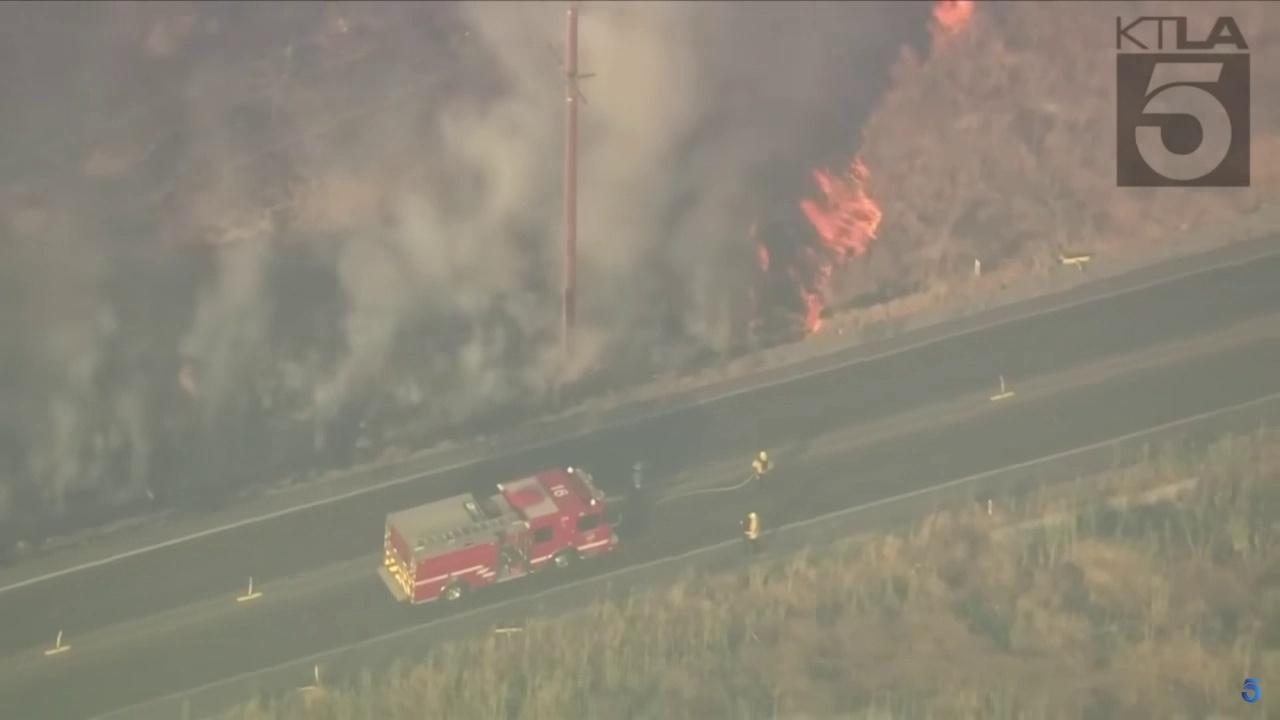fire: (786, 156, 883, 336), (929, 0, 976, 36), (755, 244, 773, 273)
smoke: (0, 0, 944, 524)
